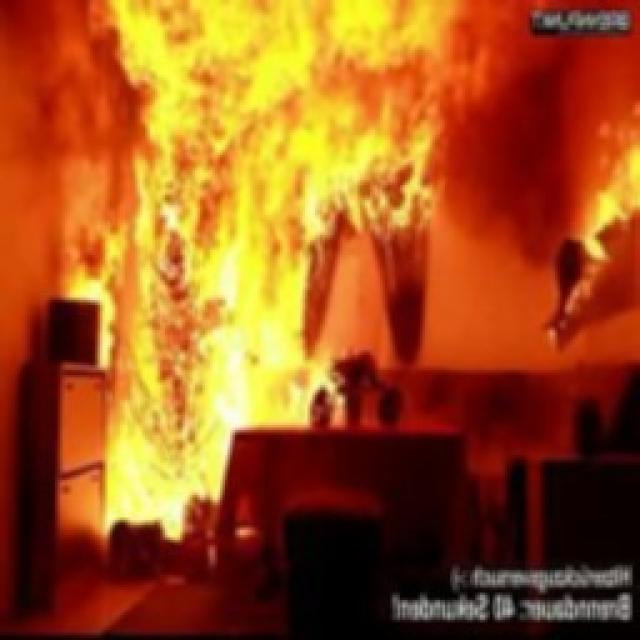fire: (25, 2, 620, 450)
